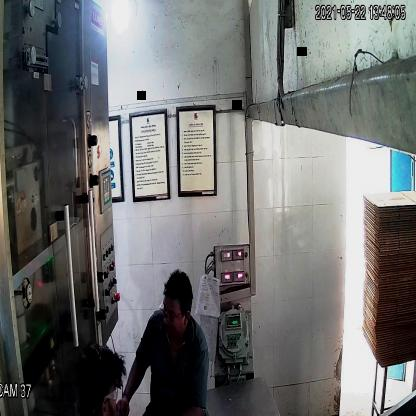goggles: (157, 301, 191, 327)
